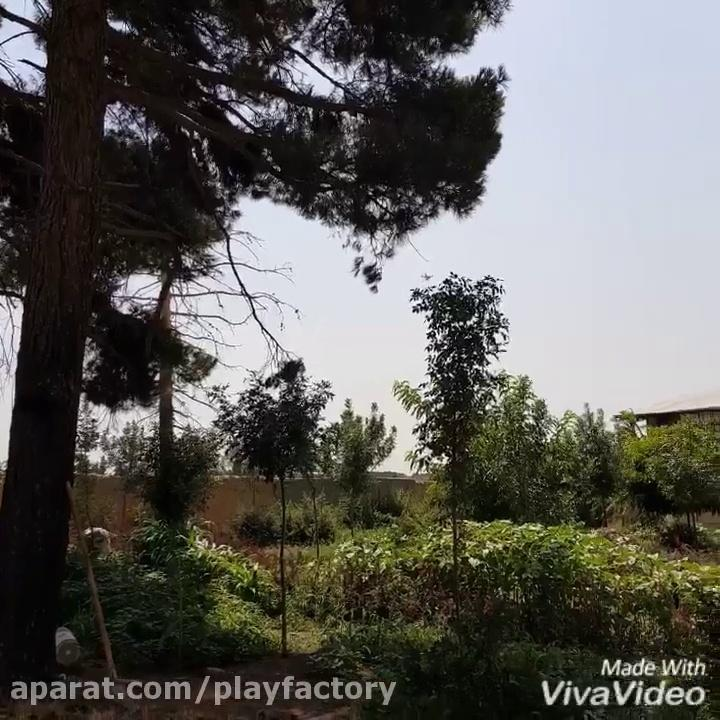drone: (414, 263, 439, 283)
